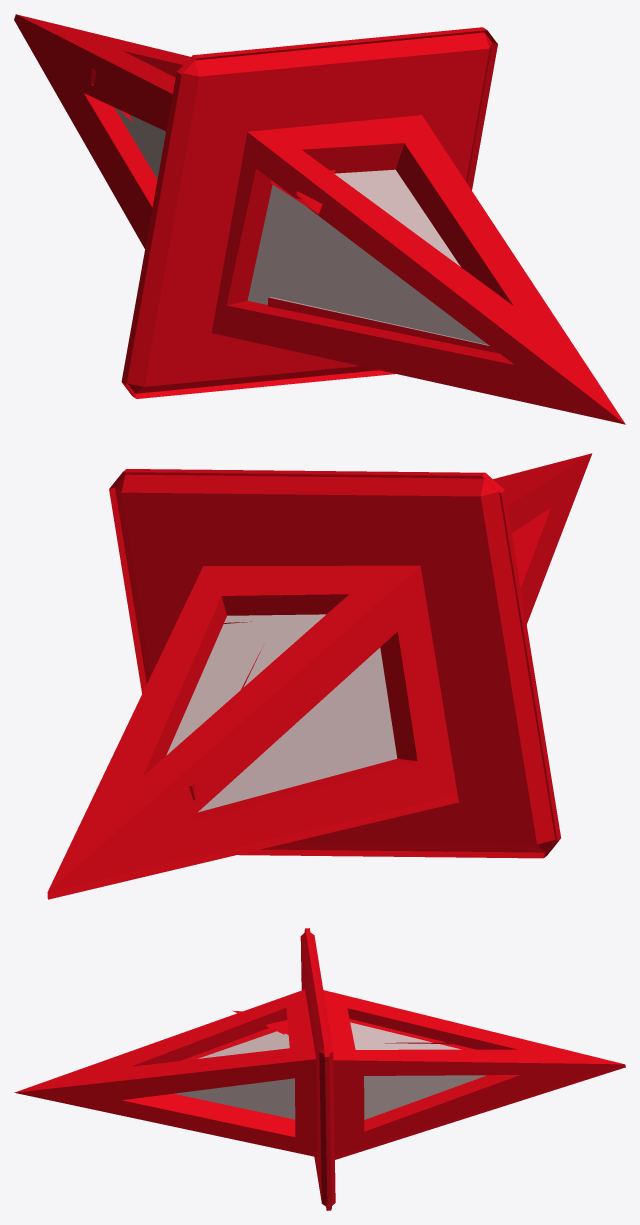
Rendered from Models.fbx.
The picture shows the model from 3 angles, top to bottom: view 1: azimuth 30°, elevation 25°; view 2: azimuth 150°, elevation 25°; view 3: azimuth 270°, elevation 25°; orthographic projection. The views are drawn at different scales.
Parts seen in each view (by area): view 1: Cube.000; view 2: Cube.000; view 3: Cube.000.
Part boxes in pixels (x1,y1,x2,y2): Cube.000: [14, 14, 625, 424]; Cube.000: [47, 453, 592, 899]; Cube.000: [14, 928, 625, 1210].
Size of the model in its own units: 398 by 380 by 979.
